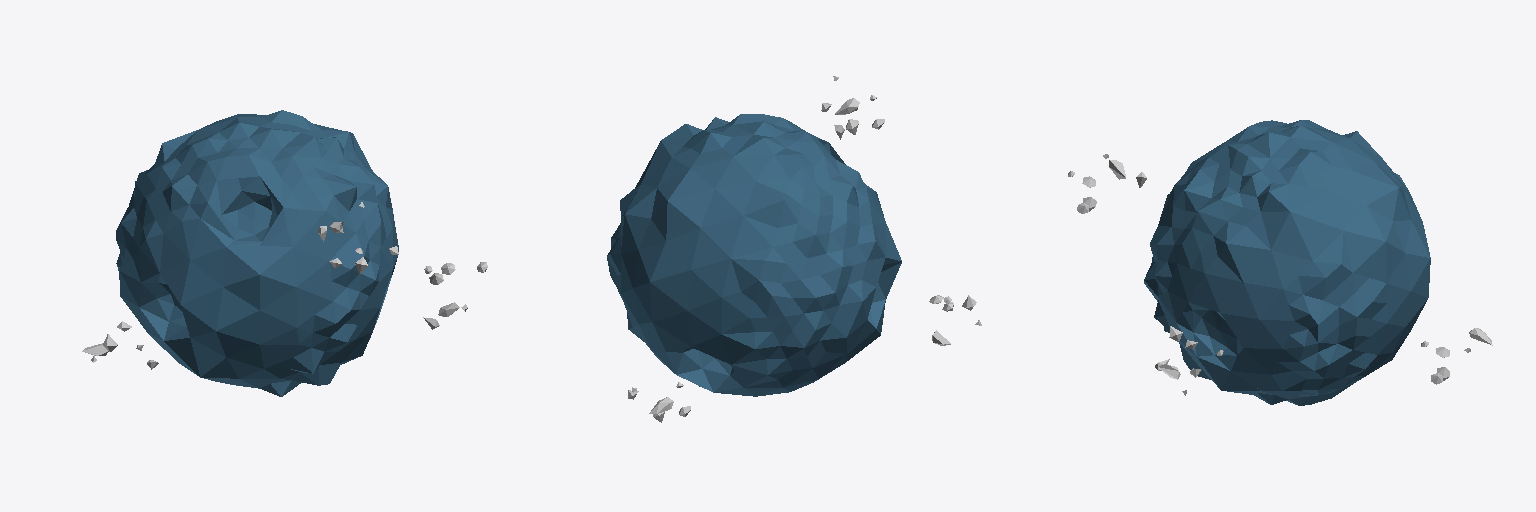
The model's file is 小转星球.obj.
3 renders of one model, left to right at view 1: azimuth 30°, elevation 25°; view 2: azimuth 150°, elevation 25°; view 3: azimuth 270°, elevation 25°, orthographic.
Visible parts, largest first — view 1: 球体; view 2: 球体; view 3: 球体.
Boxes of the visible parts, x1=… form: 球体: x1=116, y1=110, x2=398, y2=396; 球体: x1=607, y1=114, x2=901, y2=396; 球体: x1=1144, y1=120, x2=1430, y2=405.
Size of the model in its own units: 354 by 230 by 345.